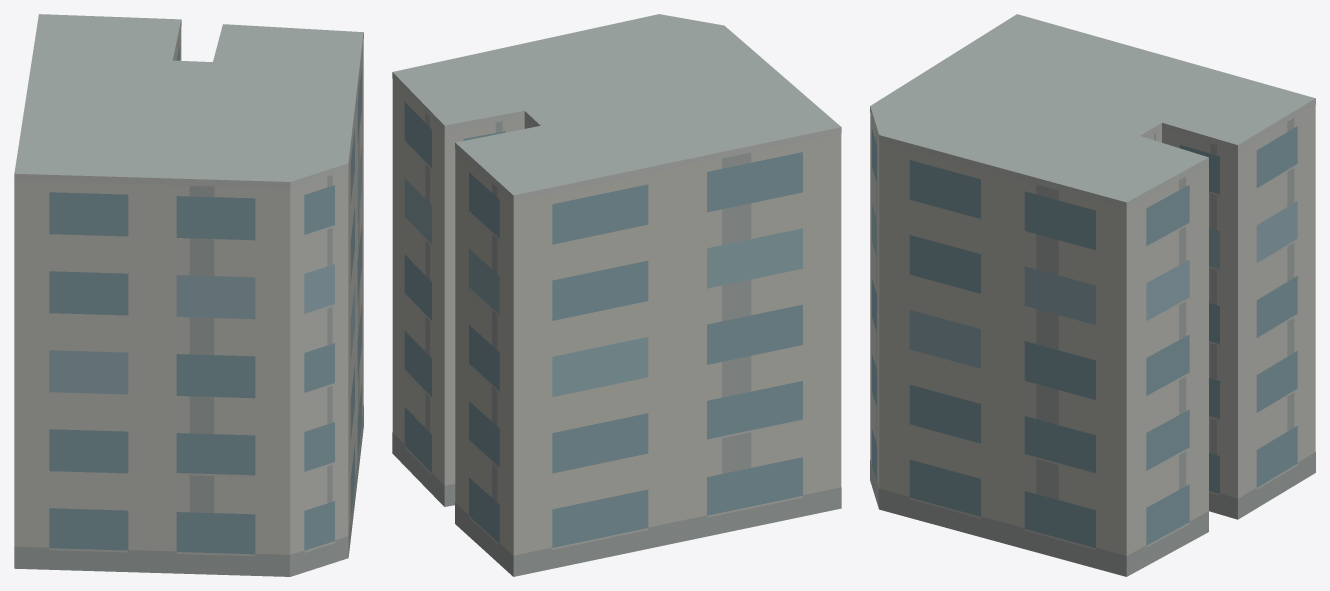
Rendered from survey-upis-33017658.glb.
The picture shows the model from 3 angles, left to right: view 1: azimuth 30°, elevation 25°; view 2: azimuth 150°, elevation 25°; view 3: azimuth 270°, elevation 25°; orthographic projection. The views are drawn at different scales.
Parts seen in each view (by area): view 1: survey-upis-33017658.tmp; view 2: survey-upis-33017658.tmp; view 3: survey-upis-33017658.tmp.
Part boxes in pixels (x1,y1,x2,y2): survey-upis-33017658.tmp: (14,14,363,576); survey-upis-33017658.tmp: (392,14,841,576); survey-upis-33017658.tmp: (870,14,1315,576).
Bounding box in the file's own units: 15.22 × 14.1 × 15.21.
